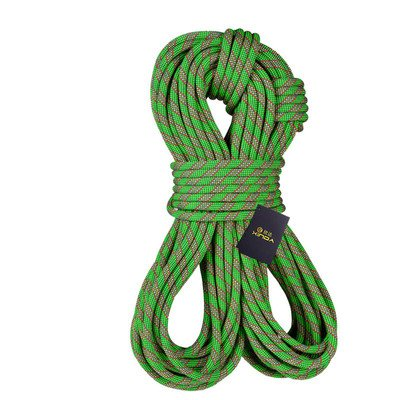9/可回收垃圾/绳子: (129, 28, 338, 392)
